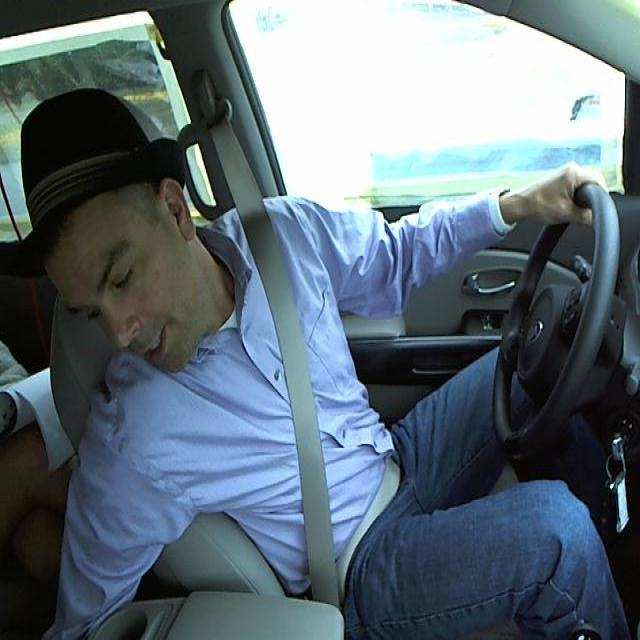seatbelt: (243, 228, 405, 587)
